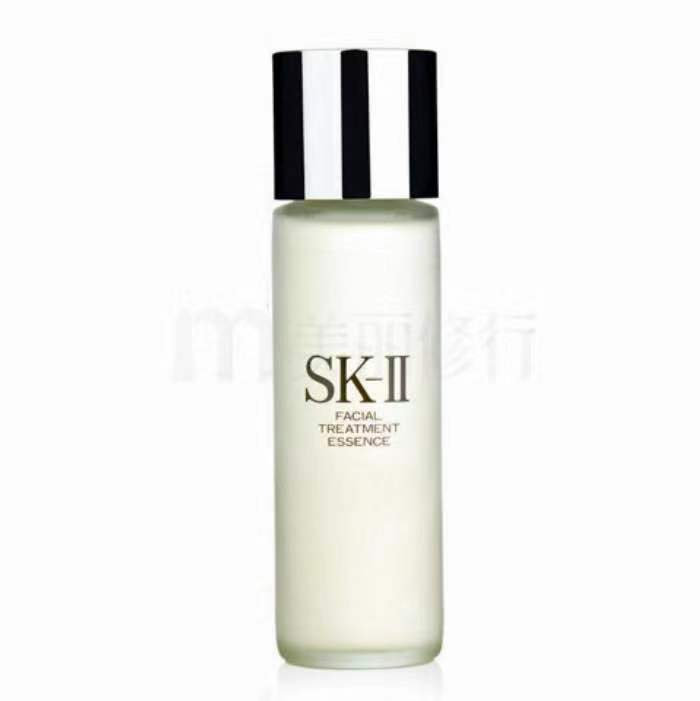cosmetic: (270, 53, 449, 672)
